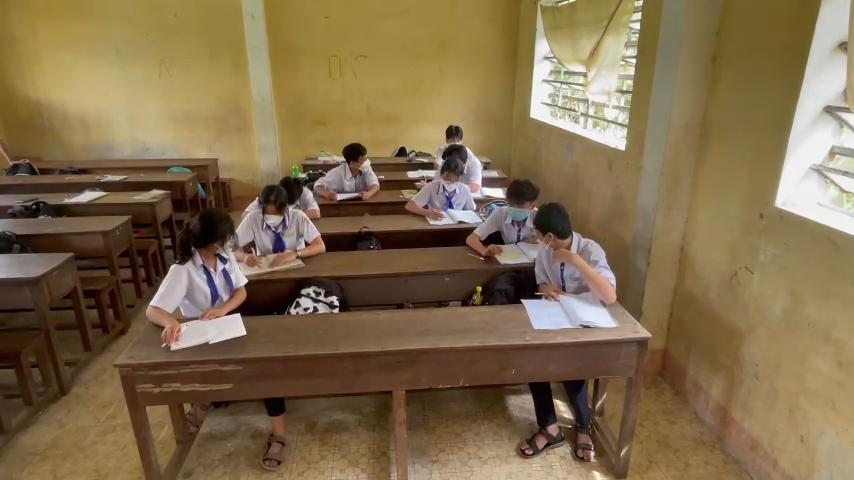Look Around: (165, 204, 240, 265), (330, 132, 385, 182), (523, 195, 578, 245)
Wave: (535, 243, 622, 306)
